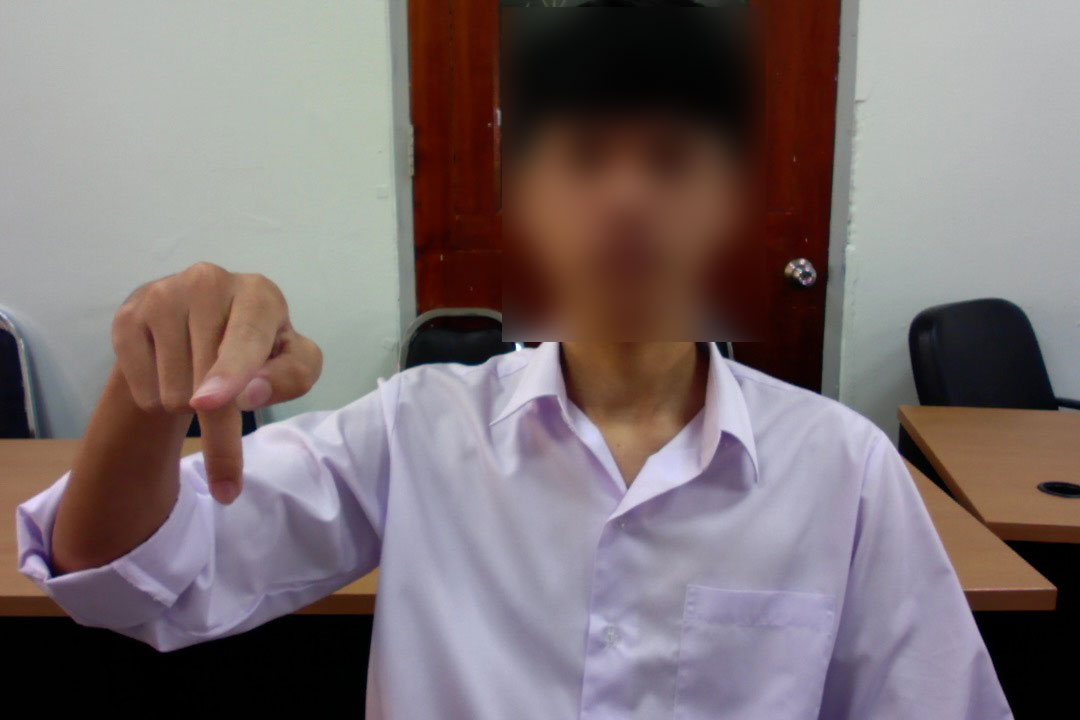por: (98, 254, 327, 509)
